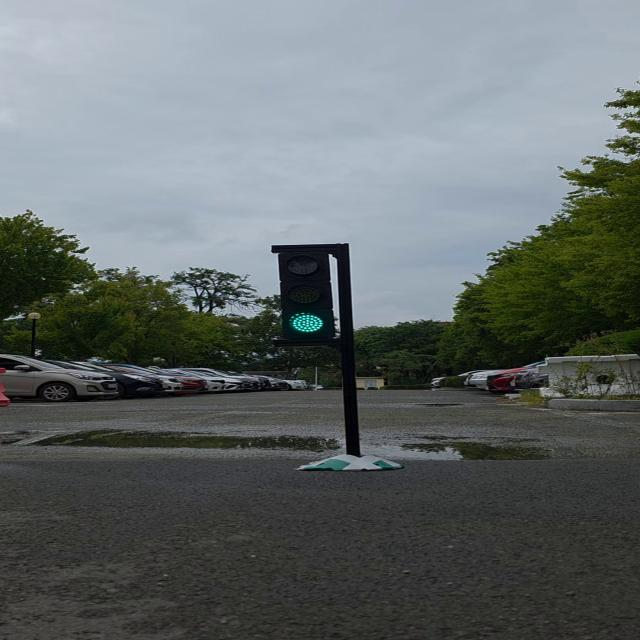green: (274, 246, 345, 346)
